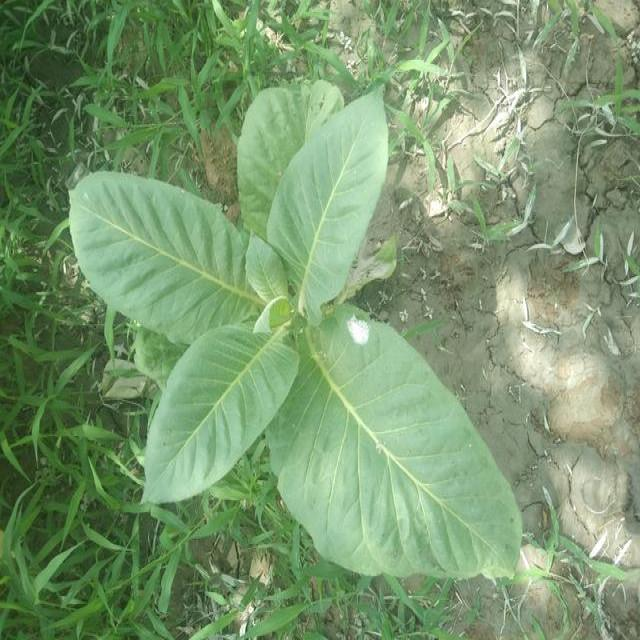crop: (70, 79, 522, 584)
